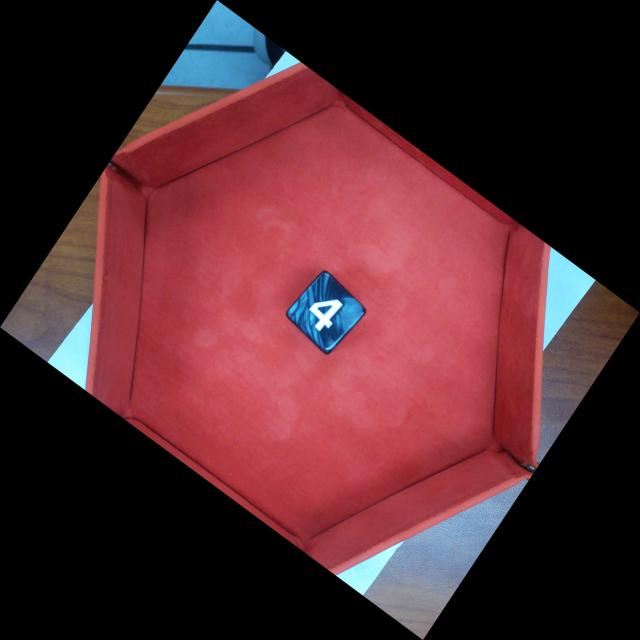dice: (285, 270, 368, 355)
